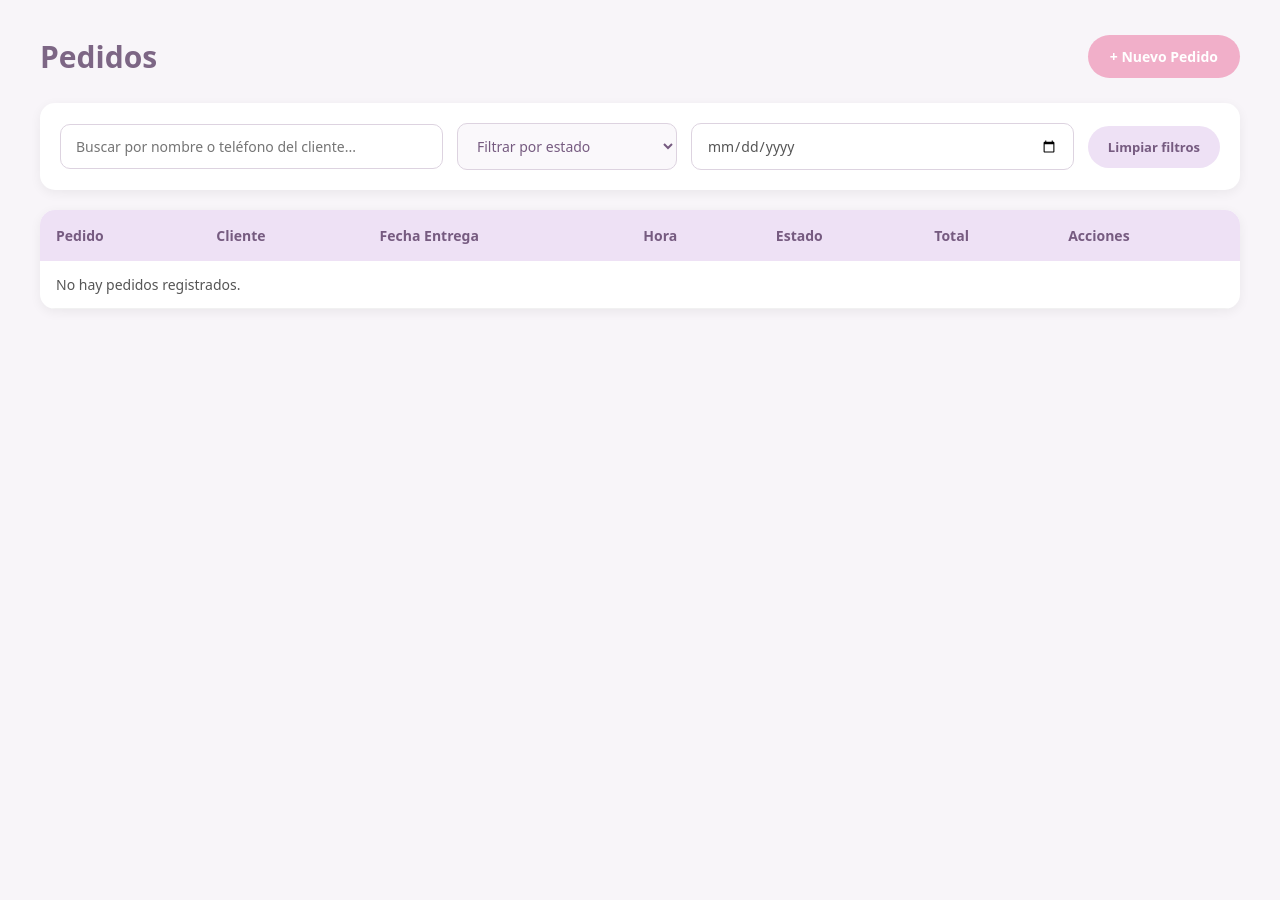
it: Pruebas del módulo de pedidos › F-PED-02 - permite cargar una imagen de referencia
The width and height of the screenshot is (1280, 900).
Expected: the heading "Pedidos" is shown, [40,36,157,77]
Click the button "+ Nuevo Pedido" at (1164, 56), box [1088,35,1240,78]
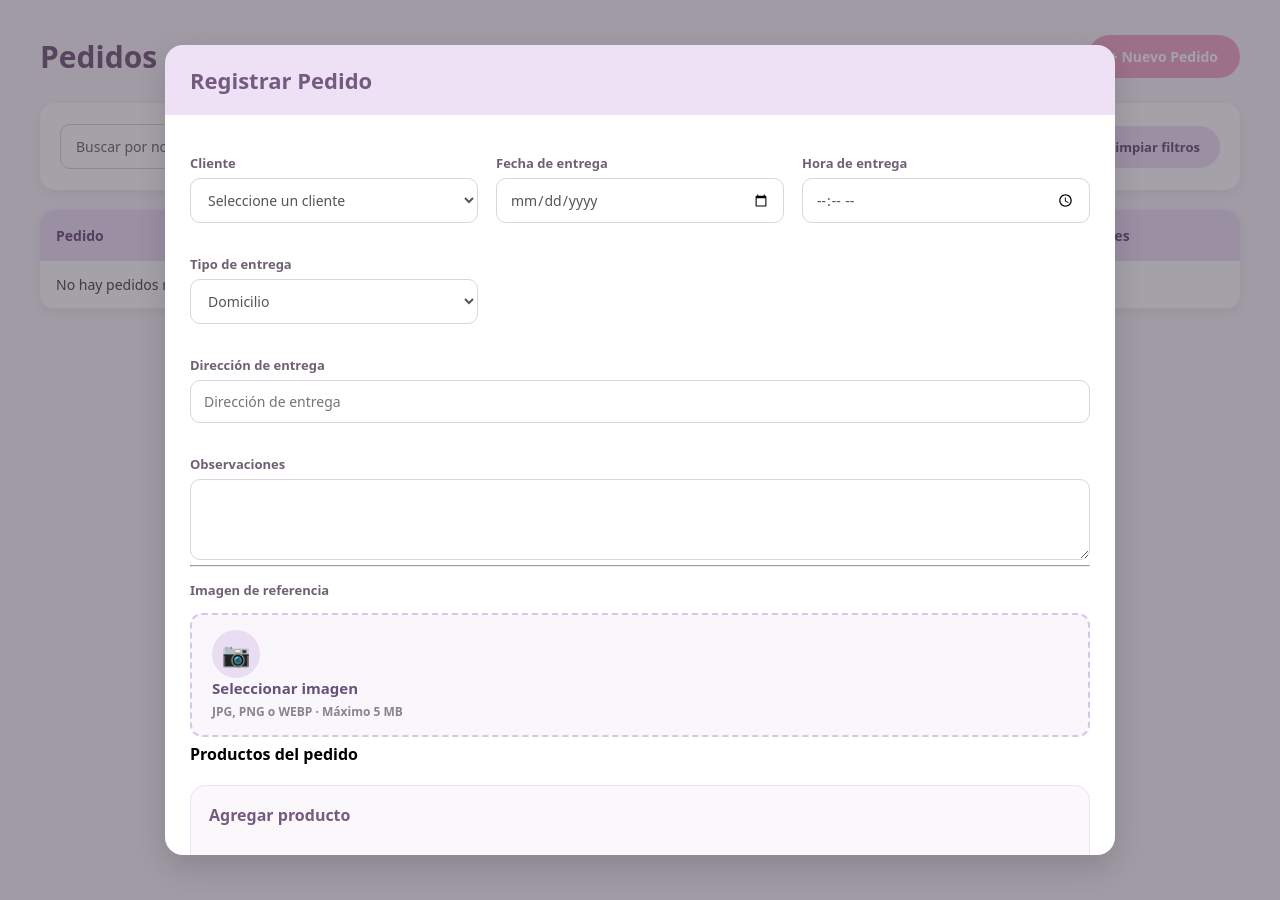
Expected: the file field labelled "📷 Seleccionar imagen JPG, PNG o WEBP · Máximo 5 MB" is shown, [190,613,1090,737]
